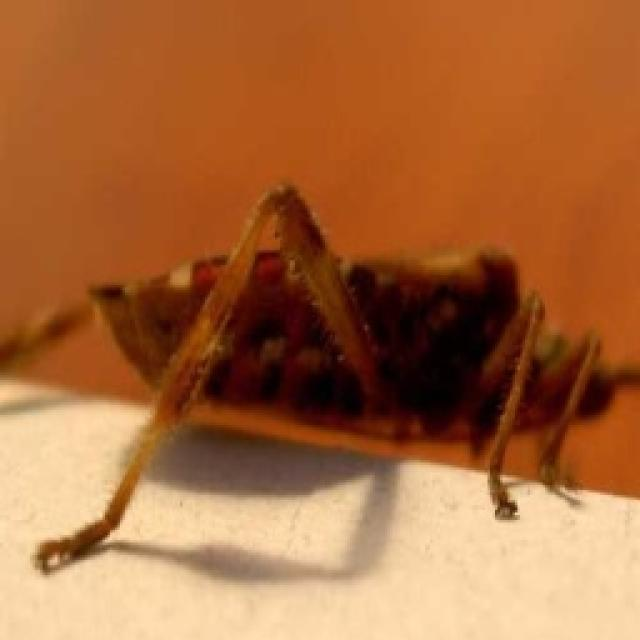cockroach: (28, 178, 627, 577)
